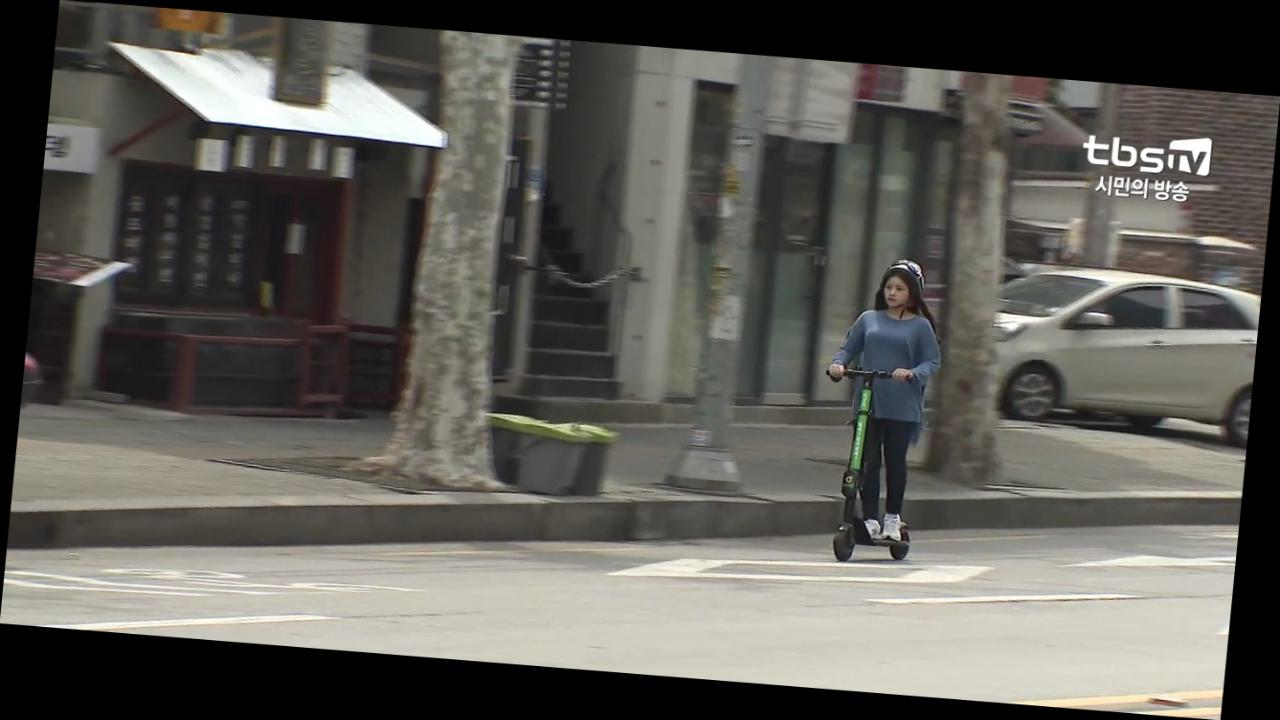helmet: (805, 254, 956, 570)
